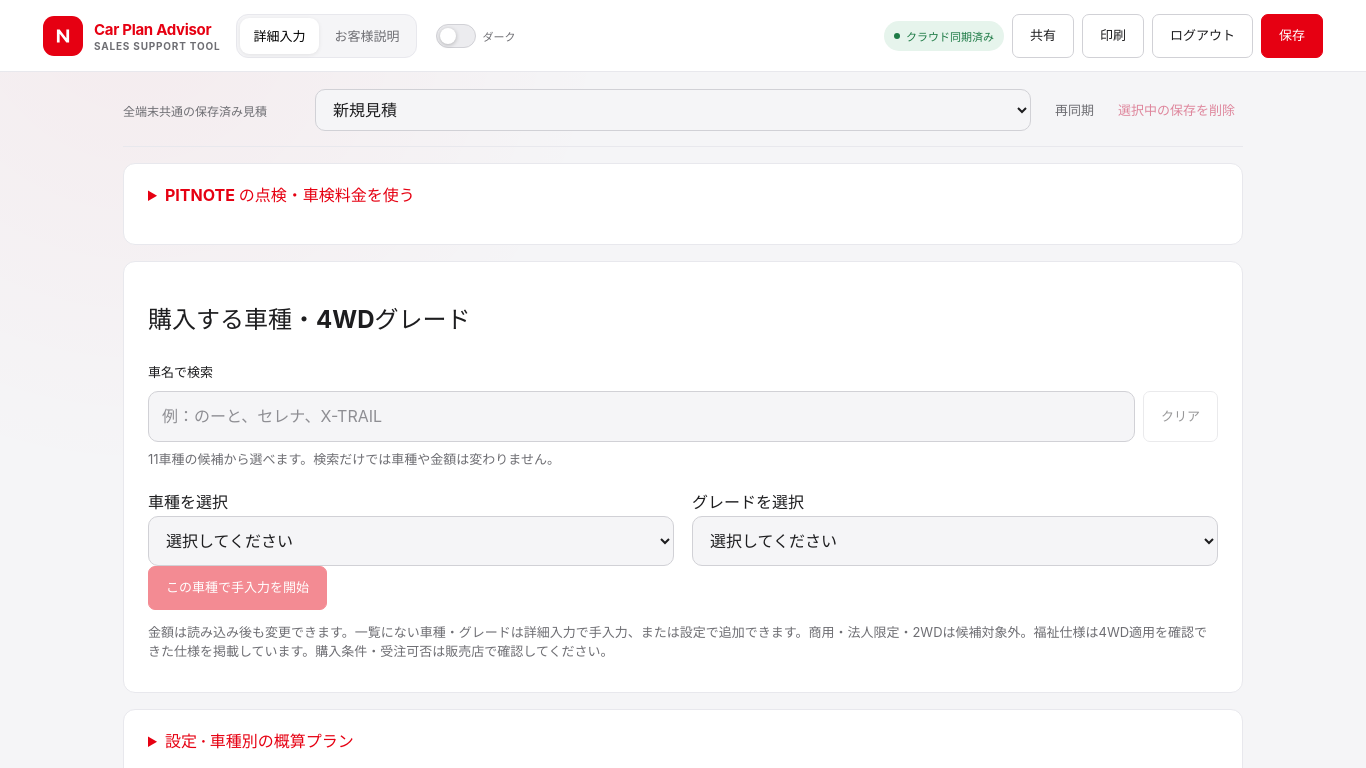
Test case: App › shows a focused readiness state when fewer than two plans are complete
Click the button "お客様説明" at (367, 36), box 322,18 -> 412,54
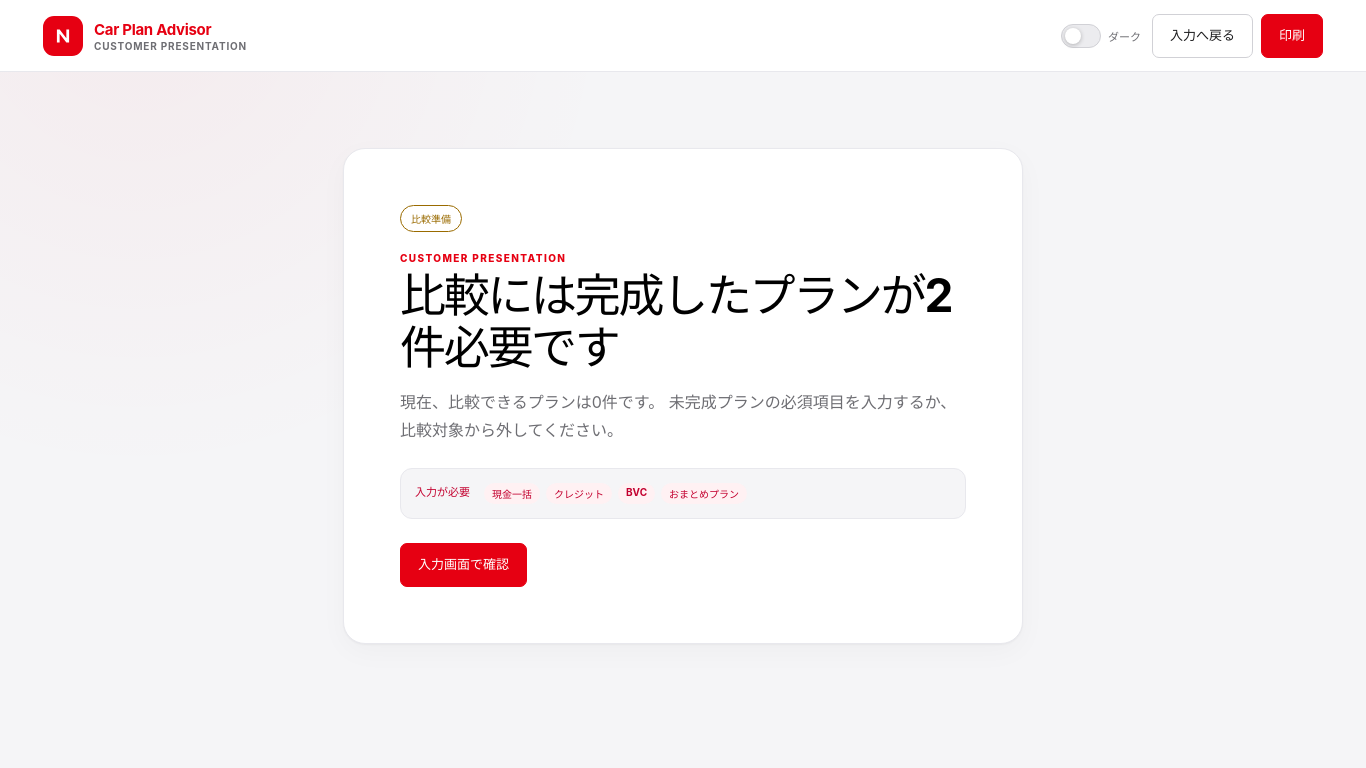
Expected: the heading "比較には完成したプランが2件必要です" is shown, 400,270 -> 960,373
Expected: the button "入力画面で確認" is shown, 400,543 -> 527,587
